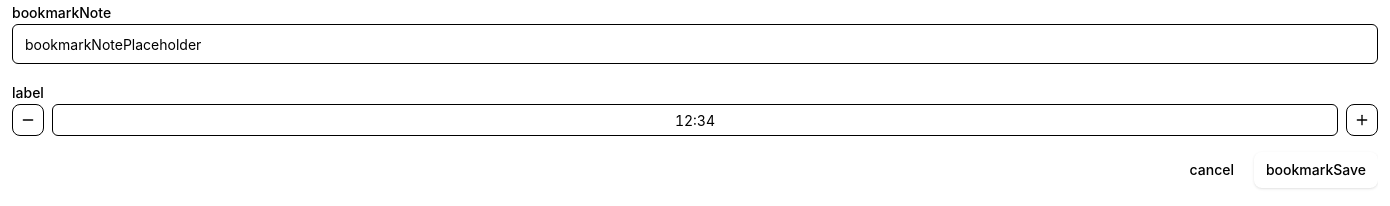
Scenario: BookmarkForm › adjusts the timestamp with the ±5s steppers without touching playback
This screenshot has width=1390, height=206.
Step 1. Click the button named "subtractSeconds({\"seconds\":5})" → (28, 120), box [12,104,44,136]
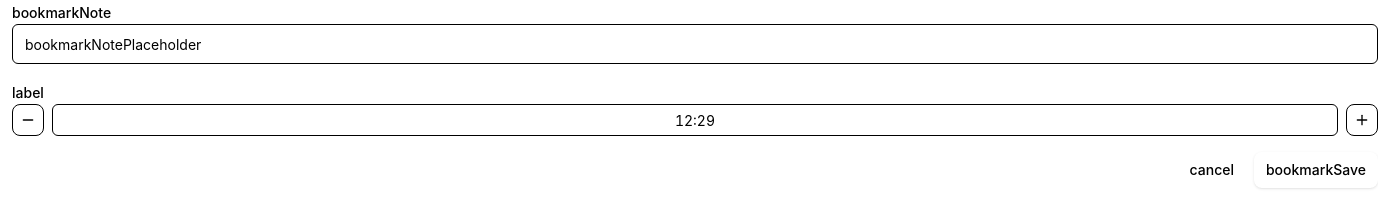
Now the field labelled "label" holds "12:29", box [52,104,1338,136]
Step 2. Click the button named "addSeconds({\"seconds\":5})" → (1362, 120), box [1346,104,1378,136]
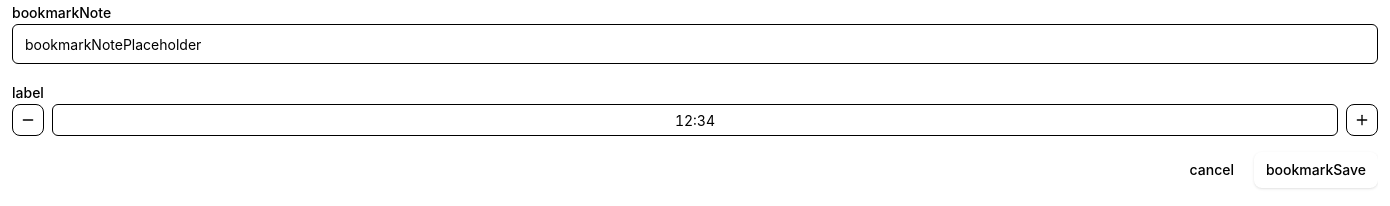
Now the field labelled "label" holds "12:34", box [52,104,1338,136]
